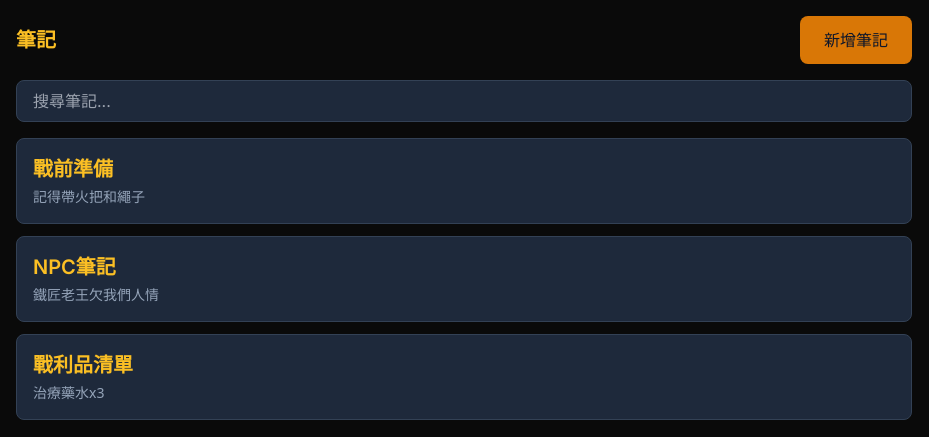
Test case: NotesPage - 搜尋列 › 輸入標題關鍵字時，只顯示標題符合的筆記
This screenshot has width=929, height=437.
In the field with placeholder "搜尋筆記...": (464, 101) [16, 80, 912, 122], type "戰"
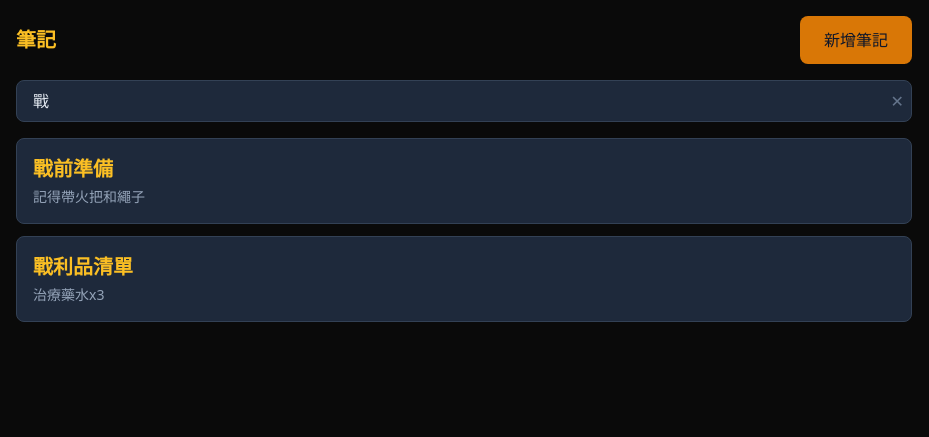
Check: the text "戰前準備" is shown, box [33, 157, 113, 181]
Check: the button "NPC筆記" is gone
